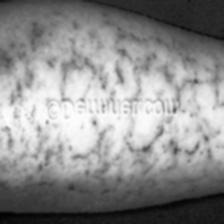Non-Cancerous Skin Condition: (0, 18, 144, 102), (0, 124, 123, 210)
